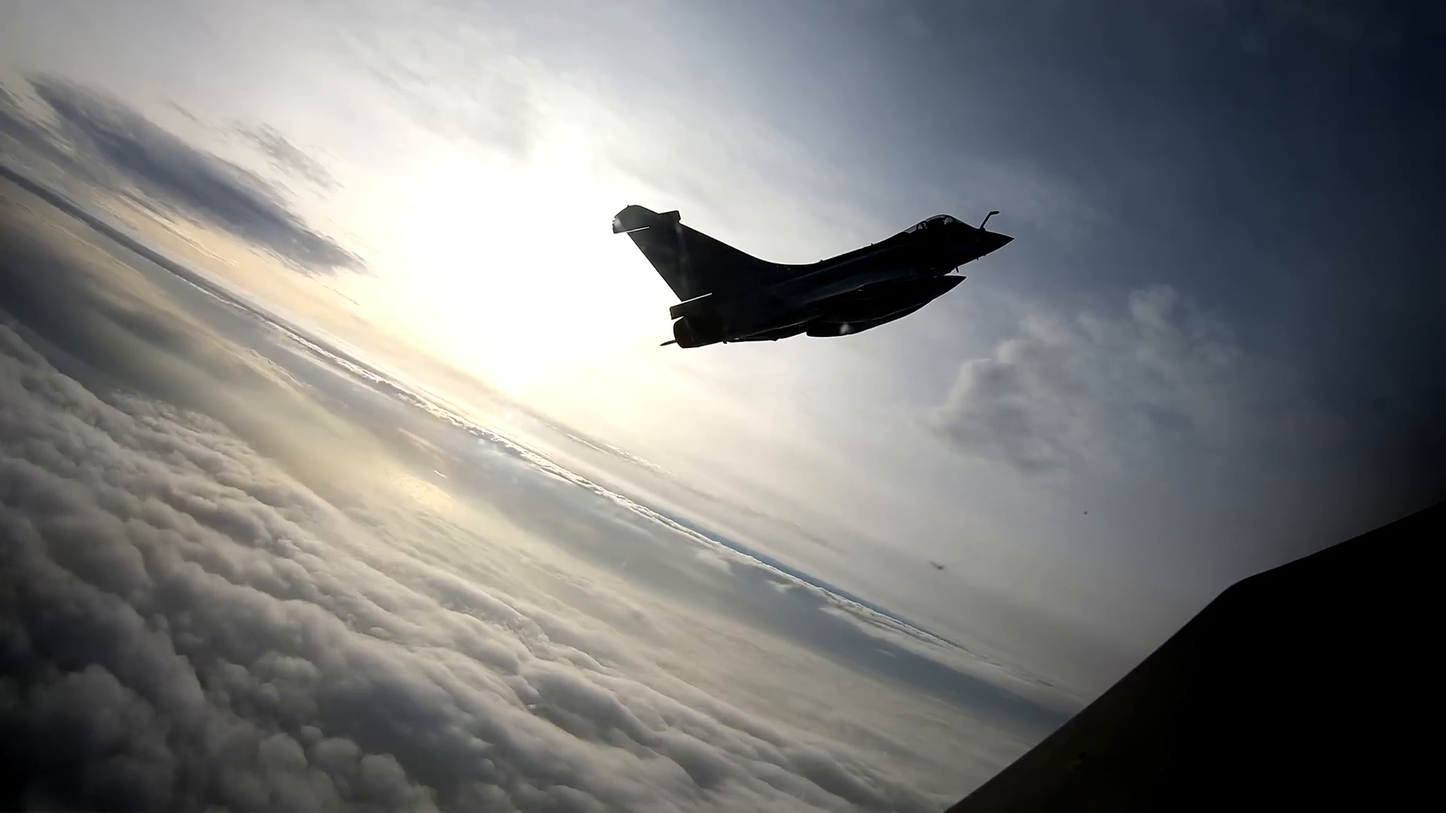Rafale: (614, 201, 1018, 347)
